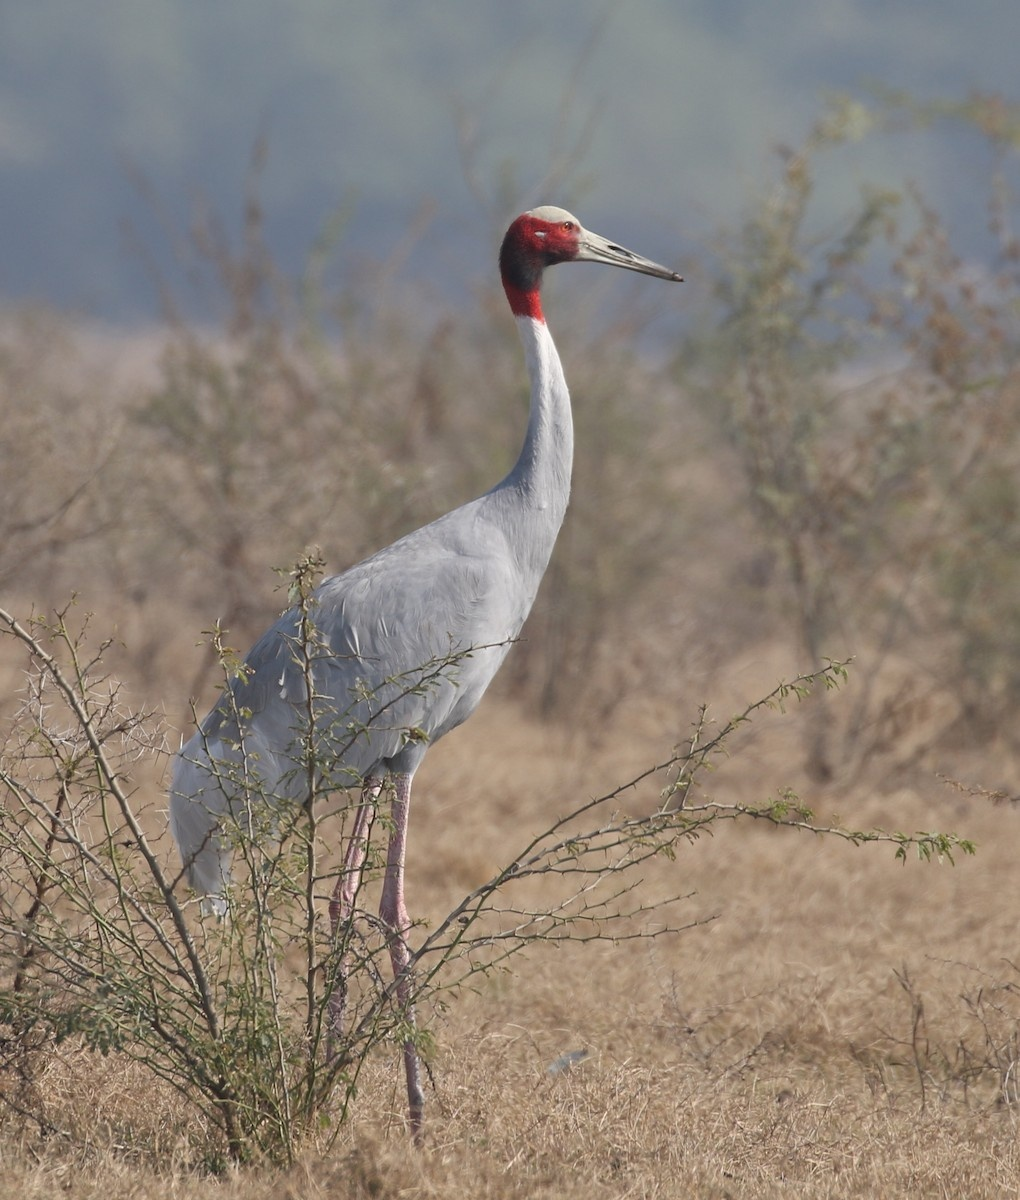crane: (162, 197, 685, 1104)
